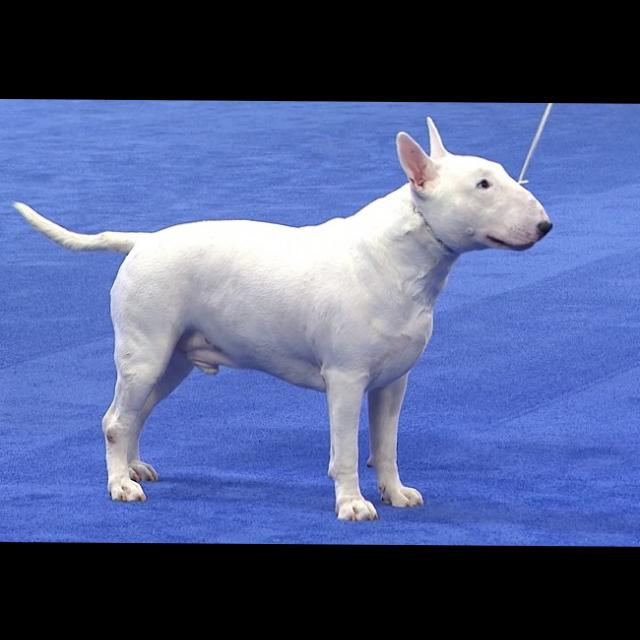bullterrier: (15, 111, 556, 522)
